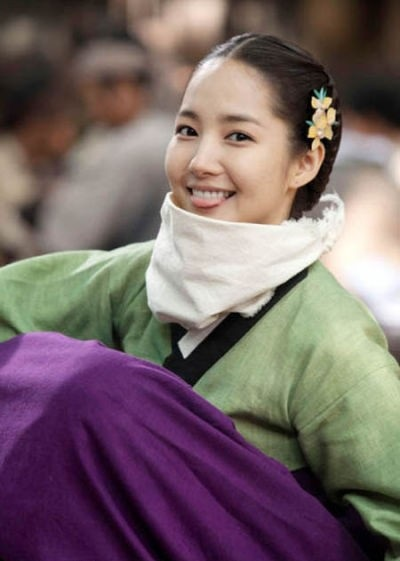face: (169, 59, 287, 246)
